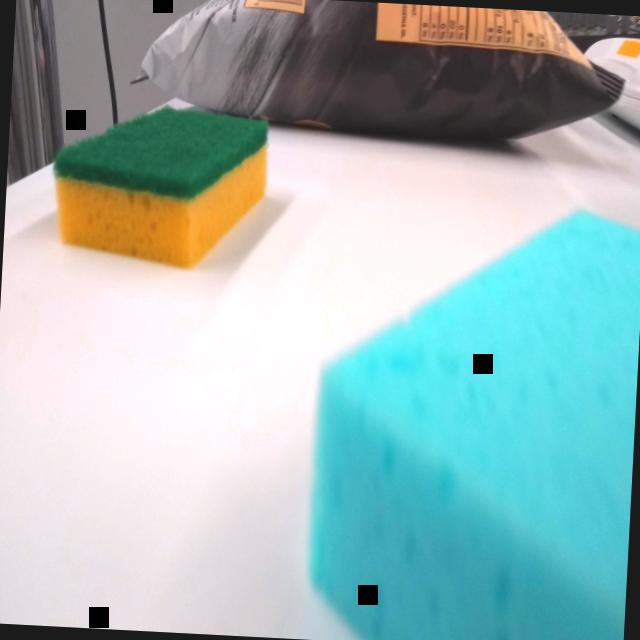scrubby: (46, 91, 281, 276)
